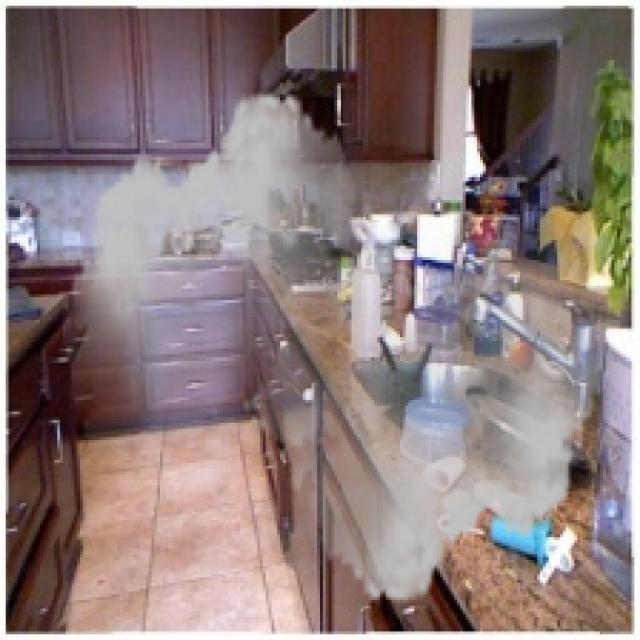Smoke: (63, 74, 603, 620)
